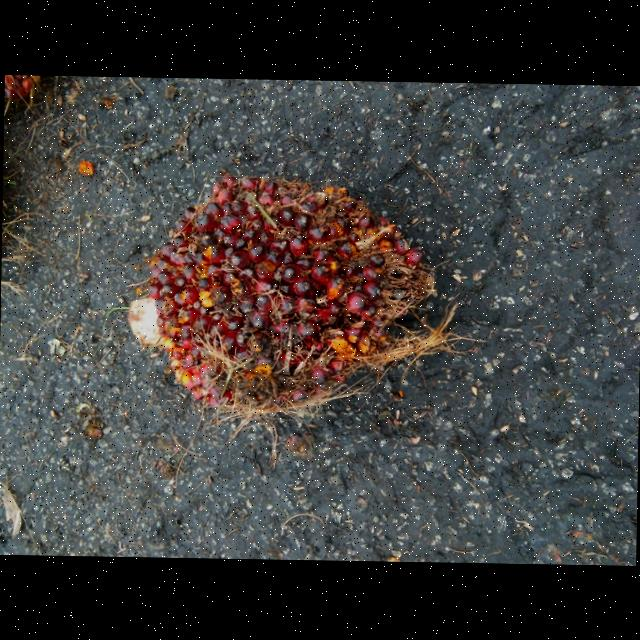Ripe: (138, 161, 439, 420)
